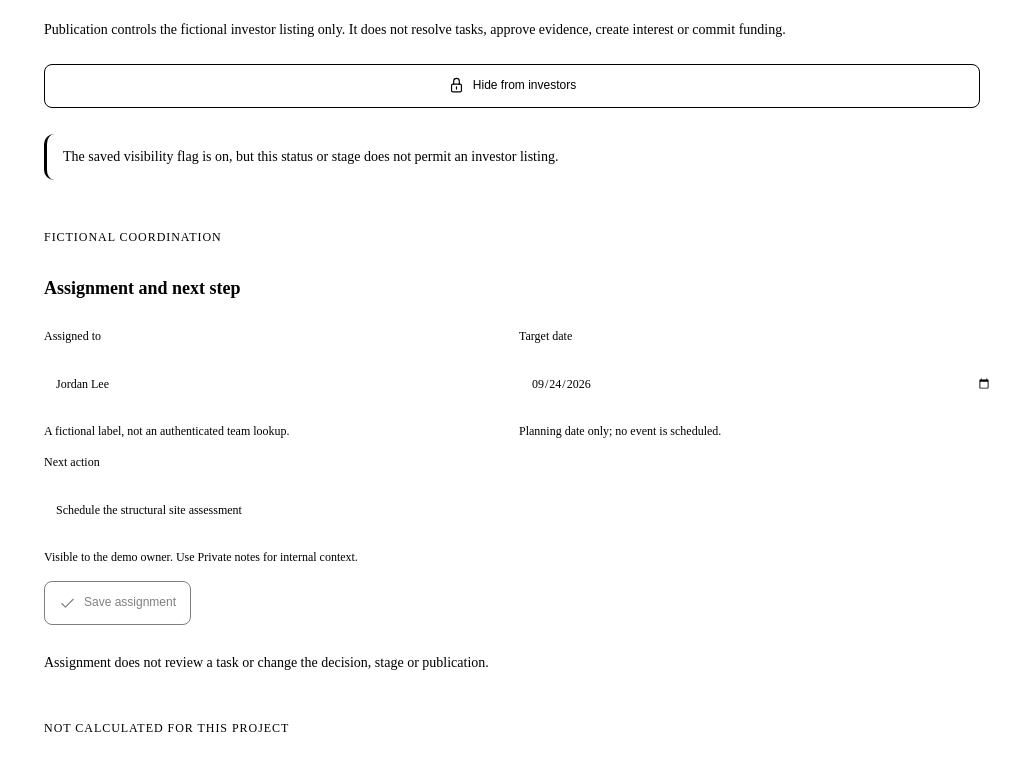
Scenario: deliberate operator commands › keeps assignment independent and makes its owner-facing next step explicit
(page scrolled)
expect the button "Save assignment" is disabled: met, box [44,581,191,625]
Replace the text in the field labelled "Assigned to" with "Example technical reviewer": (286, 384) [44,351,529,417]
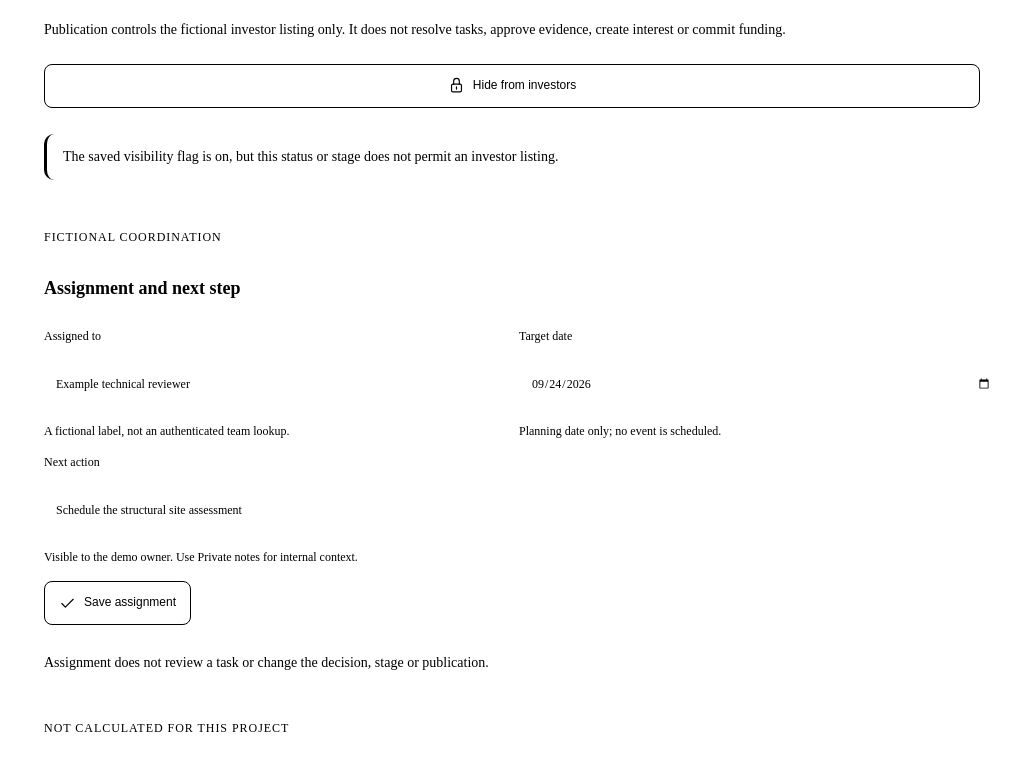
Replace the text in the field labelled "Next action" with "Review the example structural question": (524, 510) [44,477,1004,543]
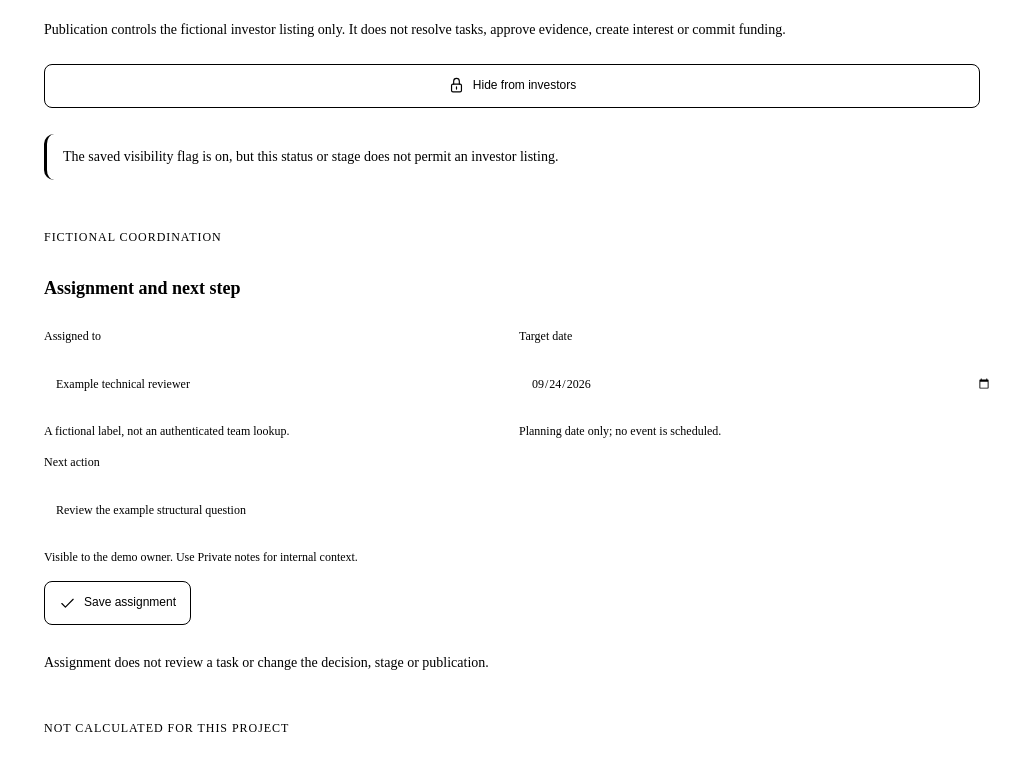
Click the button "Save assignment": (118, 603) [44,581,191,625]
(page scrolled)
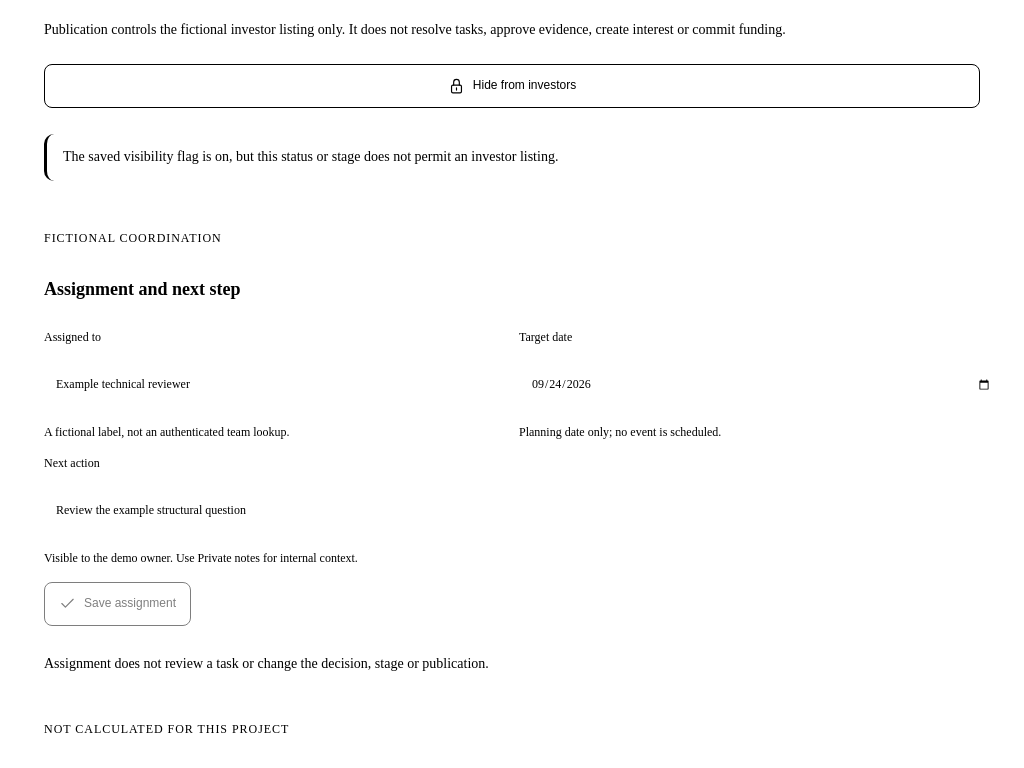
expect the button "Save assignment" is disabled: met, box [44,582,191,626]
